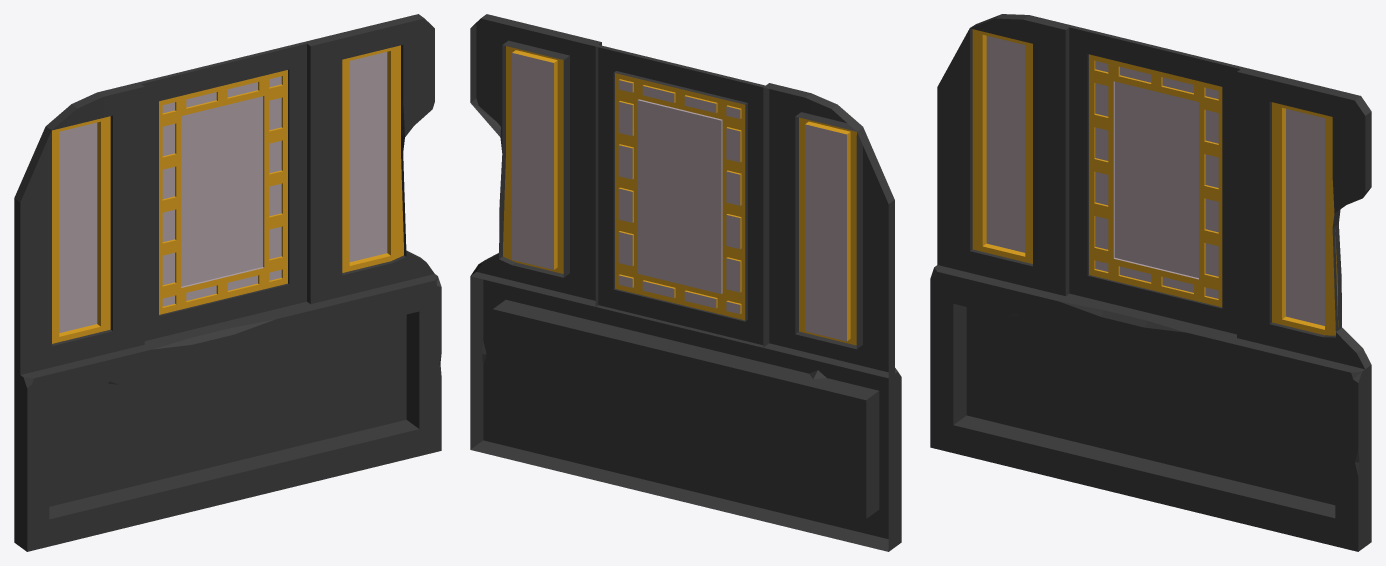
Rendered from altar_background.fbx.
The picture shows the model from 3 angles, left to right: view 1: azimuth 30°, elevation 25°; view 2: azimuth 150°, elevation 25°; view 3: azimuth 330°, elevation 25°; orthographic projection. The views are drawn at different scales.
Visible parts, largest first — view 1: altar_background; view 2: altar_background; view 3: altar_background.
Boxes of the visible parts, box(x1,y1,x2,y2) form: altar_background: box(14, 14, 441, 551); altar_background: box(470, 14, 901, 551); altar_background: box(930, 14, 1371, 551).
Bounding box in the file's own units: 282 × 280 × 15.22.
